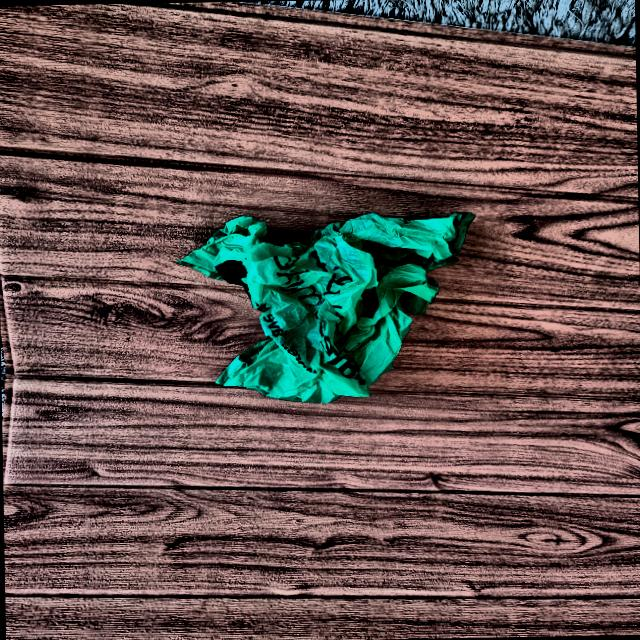plastic bag: (175, 207, 479, 406)
